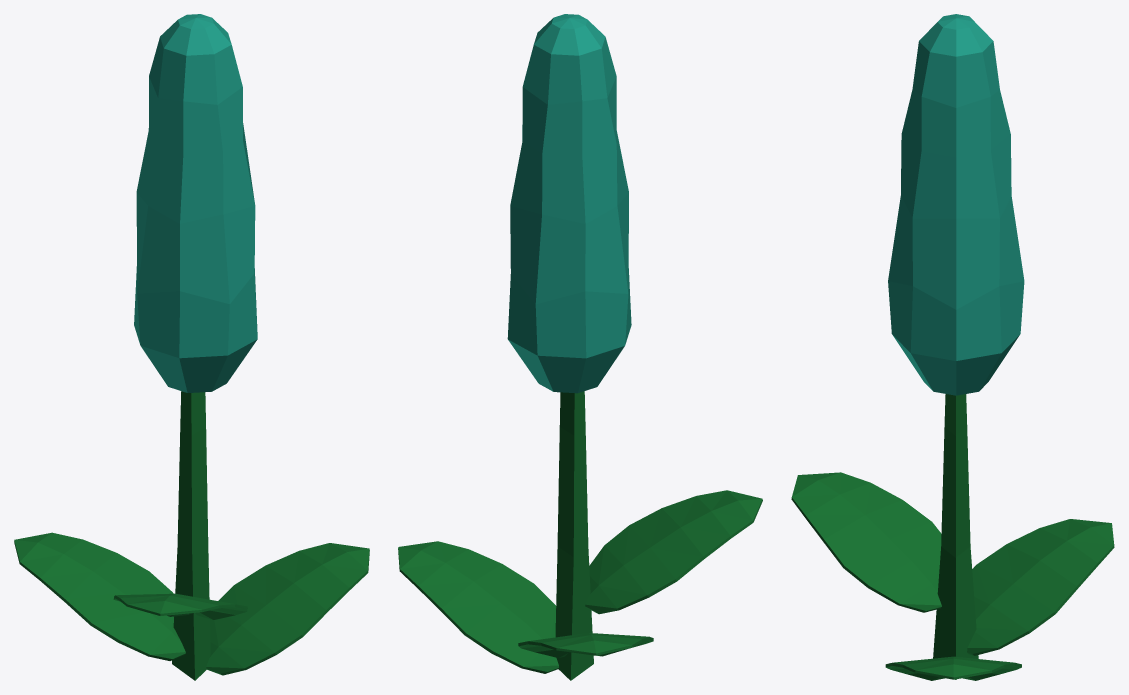
File: Flower02_FBX.fbx
3 views of the same model, side by side, from view 1: azimuth 30°, elevation 25°; view 2: azimuth 150°, elevation 25°; view 3: azimuth 270°, elevation 25° (orthographic).
Parts seen in each view (by area): view 1: Cylinder036, Cylinder033, Cylinder034, Cylinder031, Cylinder035; view 2: Cylinder036, Cylinder033, Cylinder035, Cylinder031, Cylinder034; view 3: Cylinder036, Cylinder035, Cylinder034, Cylinder031, Cylinder033.
Boxes of the visible parts, bbox=[...] form: Cylinder036: bbox=[134, 14, 257, 392]; Cylinder033: bbox=[206, 543, 369, 675]; Cylinder034: bbox=[14, 532, 185, 660]; Cylinder031: bbox=[172, 391, 210, 680]; Cylinder035: bbox=[113, 593, 247, 619]; Cylinder036: bbox=[507, 14, 631, 393]; Cylinder033: bbox=[398, 541, 558, 673]; Cylinder035: bbox=[585, 490, 762, 614]; Cylinder031: bbox=[555, 391, 593, 680]; Cylinder034: bbox=[518, 633, 653, 657]; Cylinder036: bbox=[888, 14, 1024, 395]; Cylinder035: bbox=[791, 472, 941, 612]; Cylinder034: bbox=[967, 519, 1114, 655]; Cylinder031: bbox=[933, 394, 978, 679]; Cylinder033: bbox=[885, 656, 1021, 680].
Bounding box in the file's own units: 29.31 × 61.07 × 27.29.
